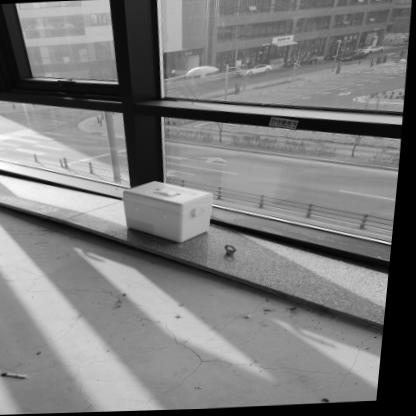DDL: (123, 179, 219, 246)
